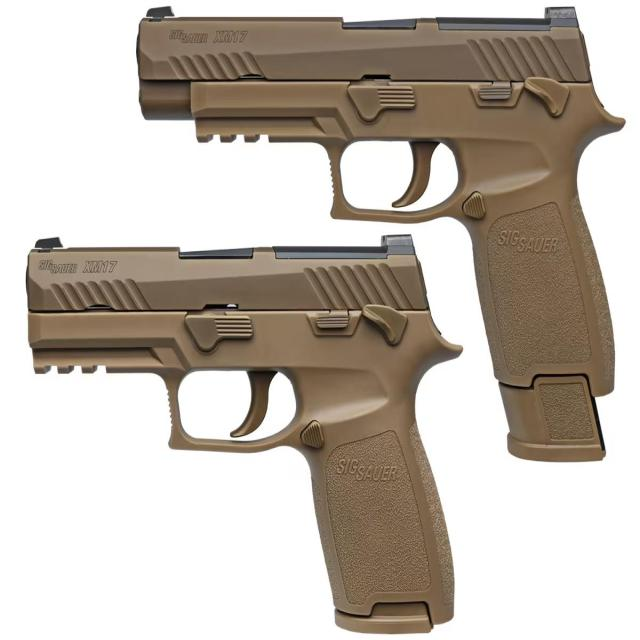gun: (136, 6, 628, 466), (26, 233, 465, 637)
